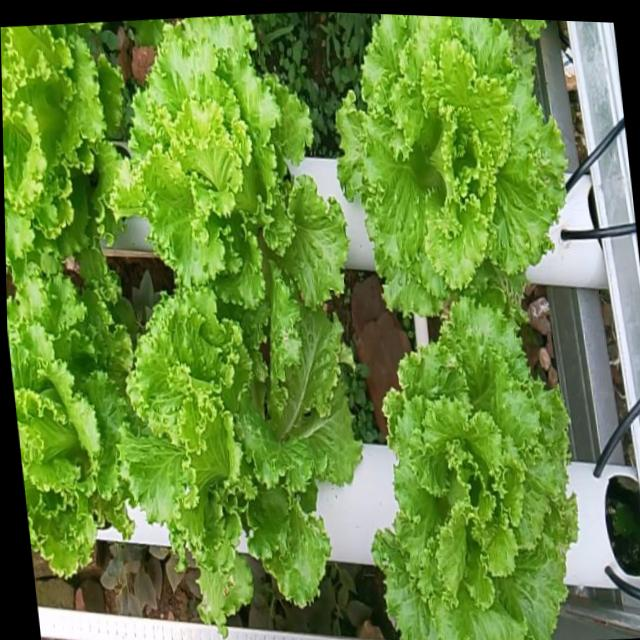Mature: (116, 298, 357, 631), (115, 16, 342, 336), (367, 295, 572, 640), (330, 14, 560, 319), (7, 282, 127, 585), (1, 24, 115, 288)
